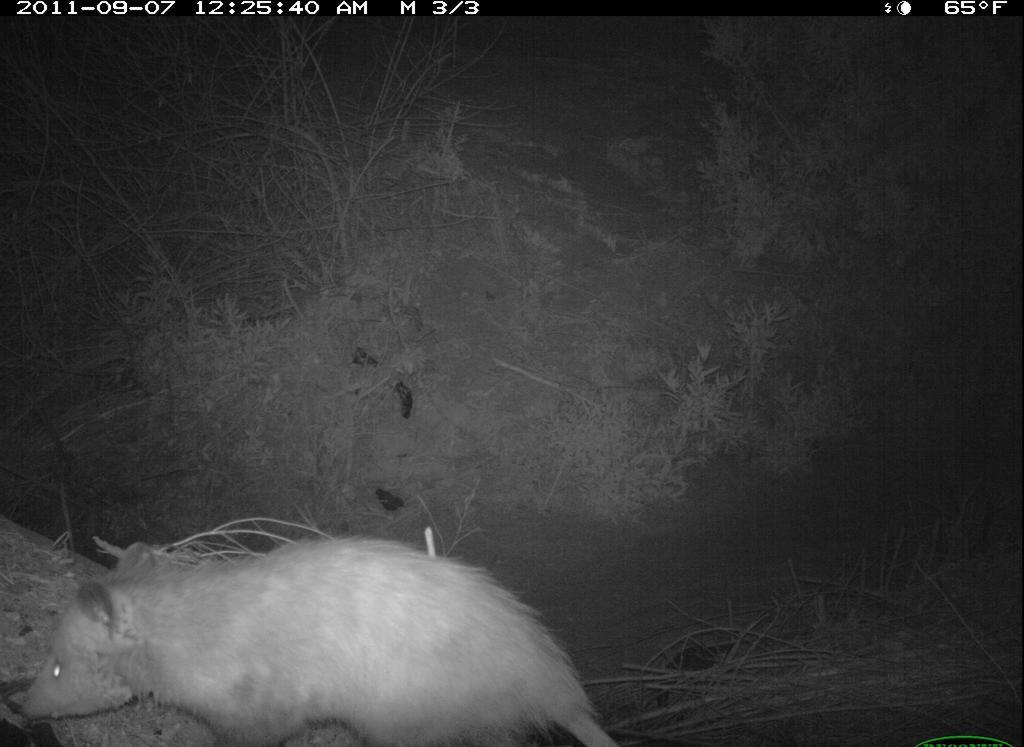opossum: (13, 524, 641, 747)
